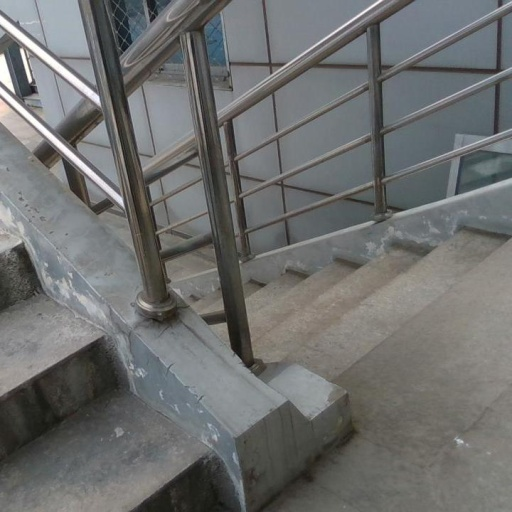Stairs: (248, 229, 512, 512), (0, 390, 225, 512)
